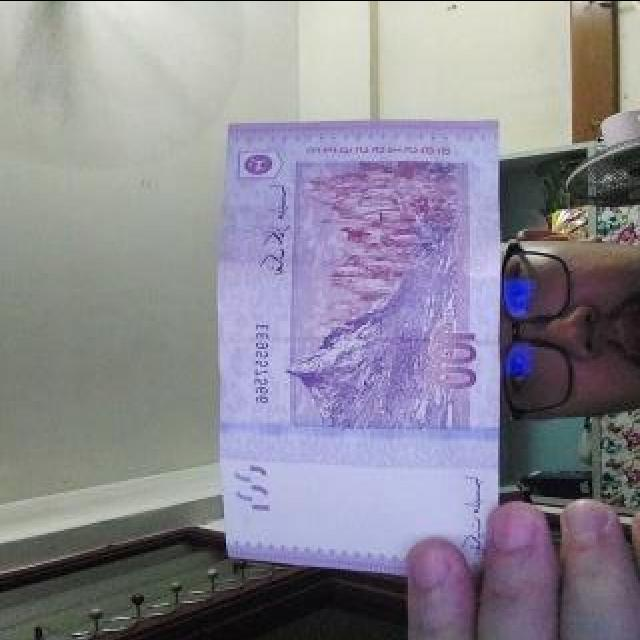100 Ringgit: (218, 109, 511, 576)
